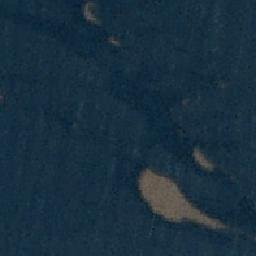debris: (141, 170, 173, 203), (149, 203, 199, 220), (193, 146, 212, 171), (200, 211, 221, 229), (174, 184, 186, 212), (107, 30, 123, 47), (82, 7, 97, 21)
